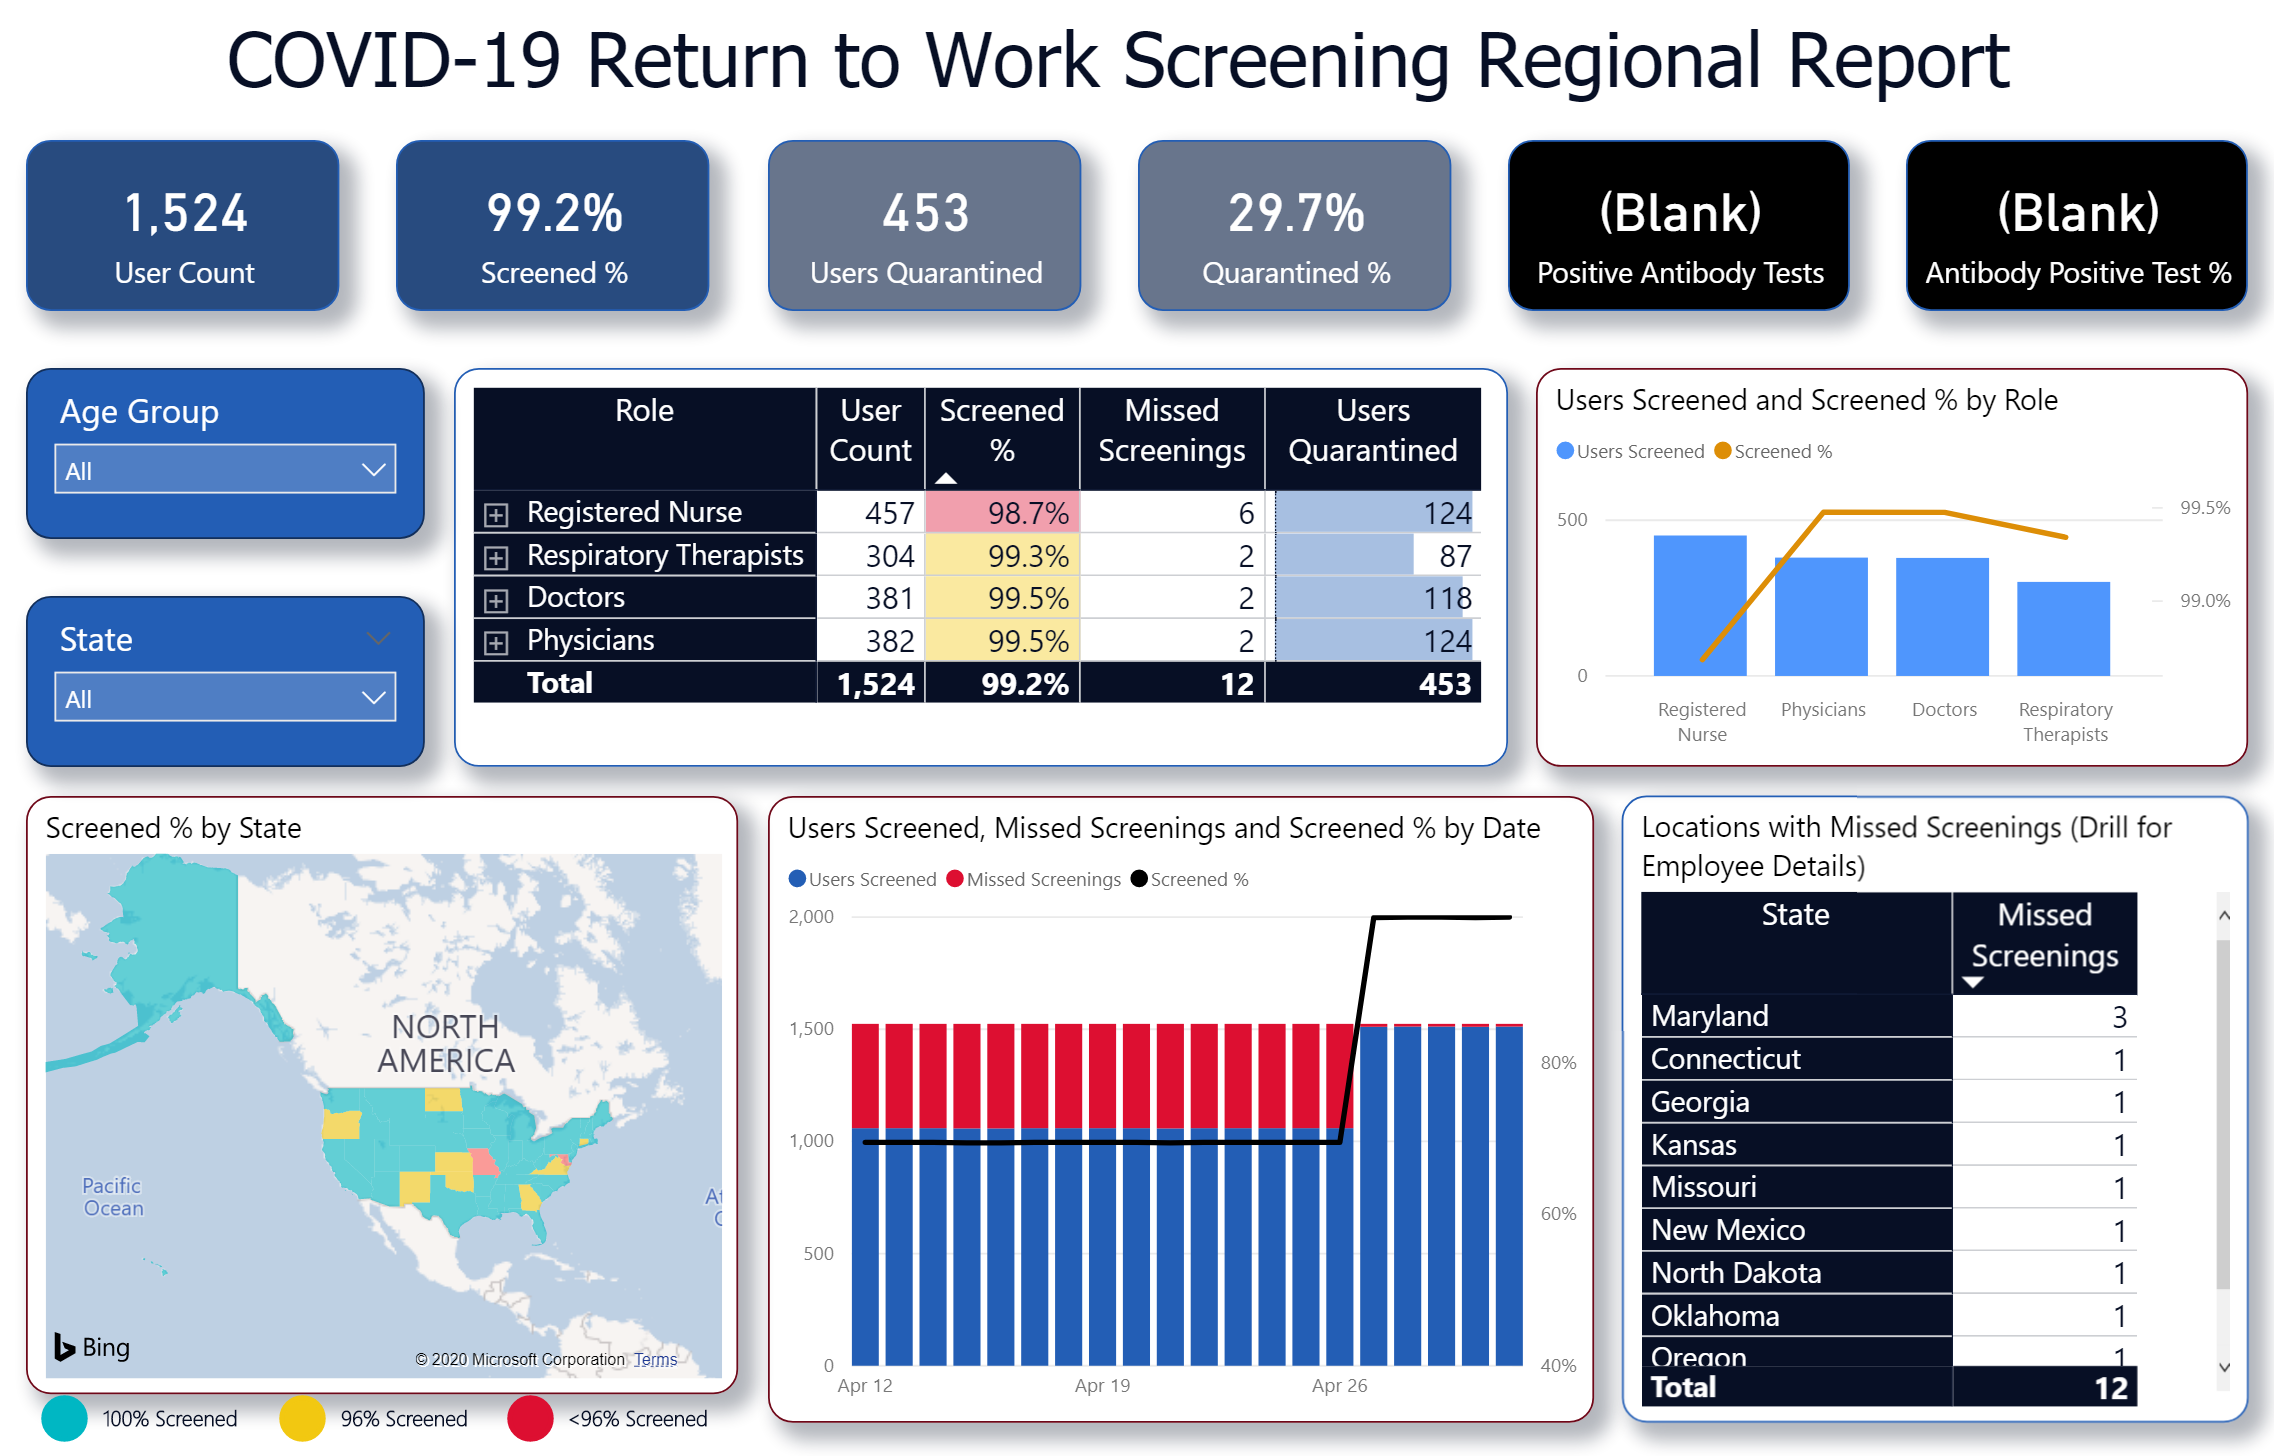

Layout of this report page (visuals, bound fields, positions):
{"tool":"powerbi","page":{"name":"Screenings","canvas":[1280,820],"ordinal":1},"visuals":[{"type":"lineStackedColumnComboChart","fields":{"Y":["Calculations.Users Screened","Calculations.Missed Screenings"],"Category":["Date.Date"],"Y2":["Calculations.Screened %"]},"box":[432,448,464,352],"z":0},{"type":"filledMap","fields":{"Category":["UserInfo.State","UserInfo.ZipCode"]},"box":[16,448,400,336],"z":1000},{"type":"basicShape","box":[21.4,781.5,32,32],"z":2000},{"type":"basicShape","box":[155,781.5,32,32],"z":3000},{"type":"basicShape","box":[283,781.5,32,32],"z":4000},{"type":"textbox","box":[53.4,781.5,112,32],"z":5000},{"type":"textbox","box":[187,781.5,112,32],"z":6000},{"type":"textbox","box":[315,781.5,112,32],"z":7000},{"type":"lineStackedColumnComboChart","fields":{"Y":["Calculations.Users Screened"],"Y2":["Calculations.Screened %"],"Category":["UserInfo.Role"]},"box":[864,208,400,224],"z":8000},{"type":"textbox","box":[192,0,1072,80],"z":9000},{"type":"pivotTable","fields":{"Values":["Calculations.User Count","Calculations.Screened %","Calculations.Missed Screenings","Calculations.Users Quarantined"],"Rows":["UserInfo.Role","UserInfo.State","UserInfo.ZipCode"]},"box":[256,208,592,224],"z":10000},{"type":"slicer","fields":{"Values":["Age Groups.Age Group"]},"box":[16,208,224,96],"z":11000},{"type":"slicer","fields":{"Values":["UserInfo.State"]},"box":[16,336,224,96],"z":12000},{"type":"pivotTable","title":"Locations with Missed Screenings (Drill for Employee Details)","fields":{"Values":["Calculations.Missed Screenings"],"Rows":["UserInfo.State"]},"box":[912,448,352,352],"z":13000},{"type":"card","fields":{"Values":["Calculations.User Count"]},"box":[16,80,176,96],"z":14000},{"type":"card","fields":{"Values":["Calculations.Users Quarrantined"]},"box":[432,80,176,96],"z":15000},{"type":"card","fields":{"Values":["Calculations.Screened %"]},"box":[224,80,176,96],"z":16000},{"type":"card","fields":{"Values":["Calculations.Quarantined %"]},"box":[640,80,176,96],"z":17000},{"type":"card","fields":{"Values":["Calculations.Positive Antibody %"]},"box":[1072,80,192,96],"z":18000},{"type":"card","fields":{"Values":["Calculations.Positive Antibody Tests"]},"box":[848,80,192,96],"z":19000}]}

Visuals, with their boxes in screenshot pixels (x1, y1, x2, y2), scaled from the page's 1280x820 canvas onto the 2274x1456 screenshot:
lineStackedColumnComboChart - Calculations.Users Screened x Calculations.Missed Screenings: bbox=(767, 795, 1592, 1420)
filledMap - UserInfo.State x UserInfo.ZipCode: bbox=(28, 795, 739, 1392)
basicShape: bbox=(38, 1388, 95, 1444)
basicShape: bbox=(275, 1388, 332, 1444)
basicShape: bbox=(503, 1388, 560, 1444)
textbox: bbox=(95, 1388, 294, 1444)
textbox: bbox=(332, 1388, 531, 1444)
textbox: bbox=(560, 1388, 759, 1444)
lineStackedColumnComboChart - Calculations.Users Screened x Calculations.Screened %: bbox=(1535, 369, 2246, 767)
textbox: bbox=(341, 0, 2246, 142)
pivotTable - Calculations.User Count x Calculations.Screened %: bbox=(455, 369, 1507, 767)
slicer - Age Groups.Age Group: bbox=(28, 369, 426, 540)
slicer - UserInfo.State: bbox=(28, 597, 426, 767)
"Locations with Missed Screenings (Drill for Employee Details)" pivotTable: bbox=(1620, 795, 2246, 1420)
card - Calculations.User Count: bbox=(28, 142, 341, 313)
card - Calculations.Users Quarrantined: bbox=(767, 142, 1080, 313)
card - Calculations.Screened %: bbox=(398, 142, 711, 313)
card - Calculations.Quarantined %: bbox=(1137, 142, 1450, 313)
card - Calculations.Positive Antibody %: bbox=(1904, 142, 2246, 313)
card - Calculations.Positive Antibody Tests: bbox=(1507, 142, 1848, 313)
